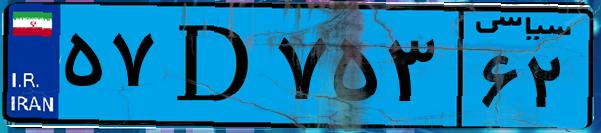2: (525, 38, 570, 115)
3: (385, 28, 445, 110)
5: (330, 28, 385, 110), (57, 26, 110, 100)
6: (475, 38, 525, 113)
7: (270, 28, 330, 110), (110, 28, 158, 98)
D: (158, 12, 270, 120)
